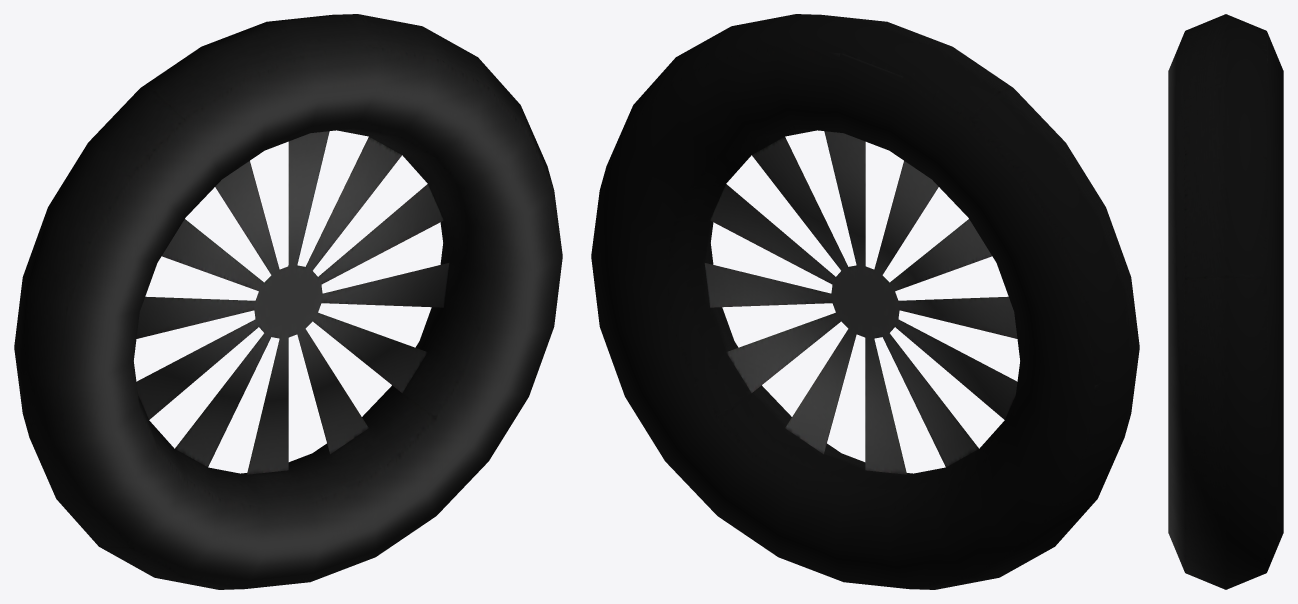
The model's file is wheel.fbx.
3 views of the same model, side by side, from view 1: azimuth 30°, elevation 25°; view 2: azimuth 150°, elevation 25°; view 3: azimuth 270°, elevation 25° (orthographic). The views are drawn at different scales.
Parts seen in each view (by area): view 1: Torus.002; view 2: Torus.002; view 3: Torus.002.
Boxes of the visible parts, <box> form: Torus.002: <box>14,14,562,589</box>; Torus.002: <box>591,14,1139,589</box>; Torus.002: <box>1168,14,1283,589</box>.
Bounding box in the file's own units: 250 × 250 × 50.
